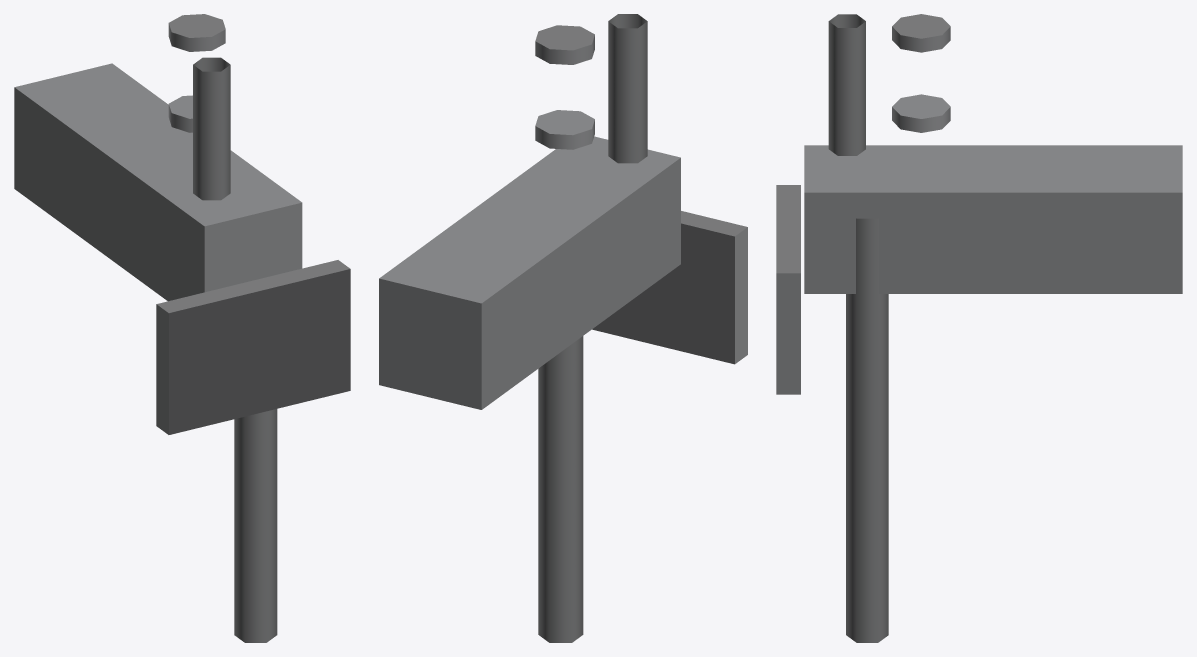
The picture shows the model from 3 angles, left to right: view 1: azimuth 30°, elevation 25°; view 2: azimuth 150°, elevation 25°; view 3: azimuth 270°, elevation 25°; orthographic projection. The views are drawn at different scales.
Size of the model in its own units: 0.288 by 0.9037 by 0.5604.
